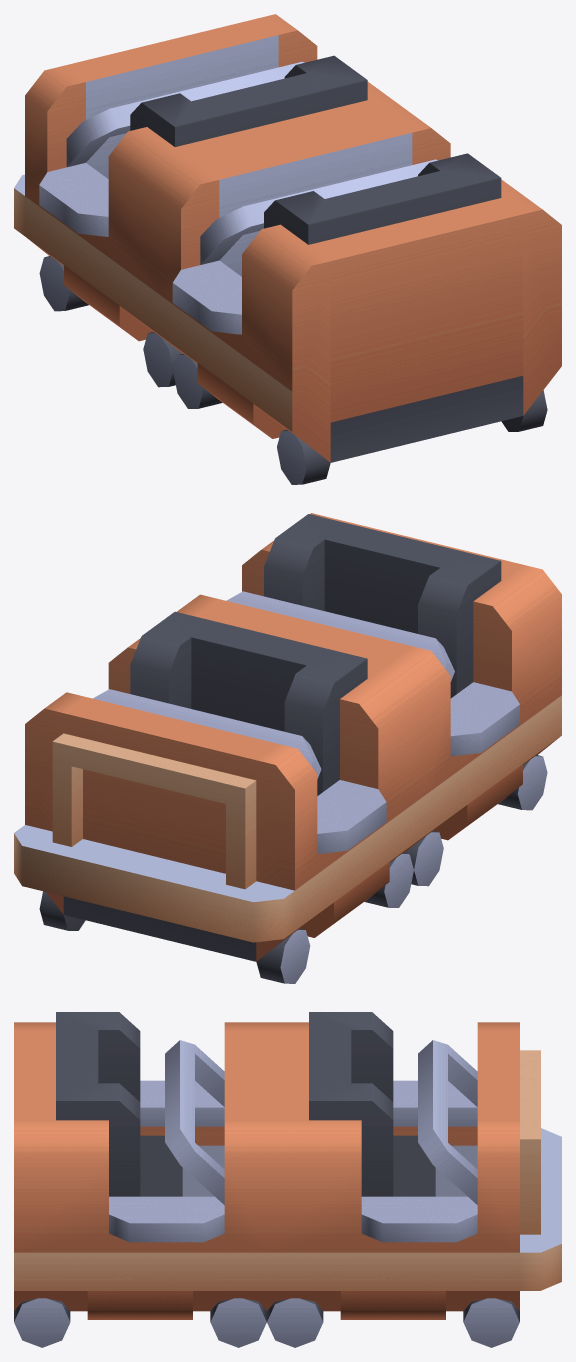
Rendered from coaster_train_wooden.glb.
The picture shows the model from 3 angles, top to bottom: view 1: azimuth 30°, elevation 25°; view 2: azimuth 150°, elevation 25°; view 3: azimuth 270°, elevation 25°; orthographic projection. The views are drawn at different scales.
Visible parts, largest first — view 1: coaster-train-wooden; view 2: coaster-train-wooden; view 3: coaster-train-wooden.
Part boxes in pixels (x1,y1,x2,y2): coaster-train-wooden: [14, 14, 561, 484]; coaster-train-wooden: [14, 513, 561, 983]; coaster-train-wooden: [14, 1012, 561, 1347].
Bounding box in the file's own units: 0.8 × 0.617 × 1.3.
1 material, 1 textured.
